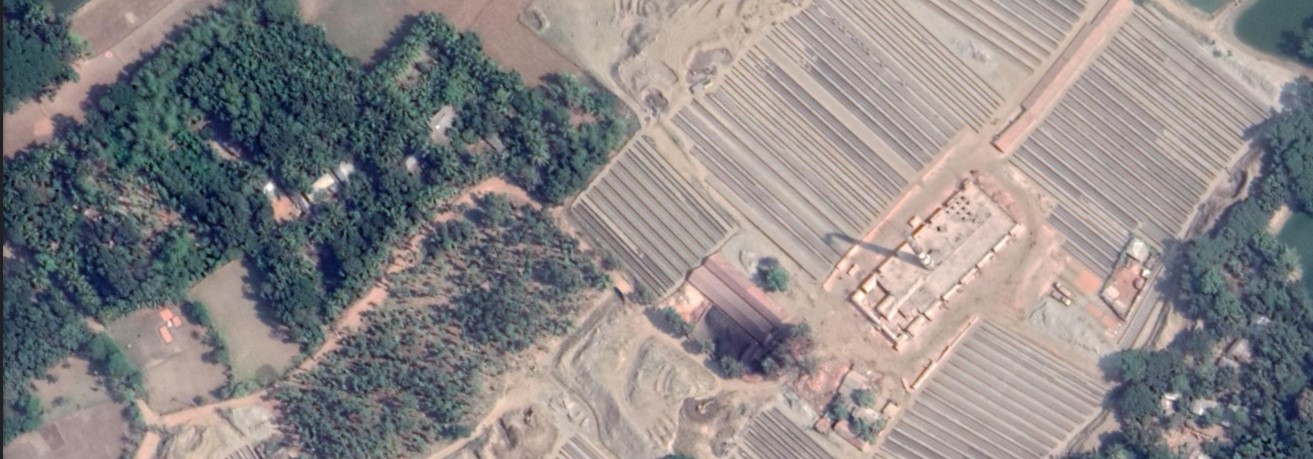kiln: (862, 196, 1005, 325)
